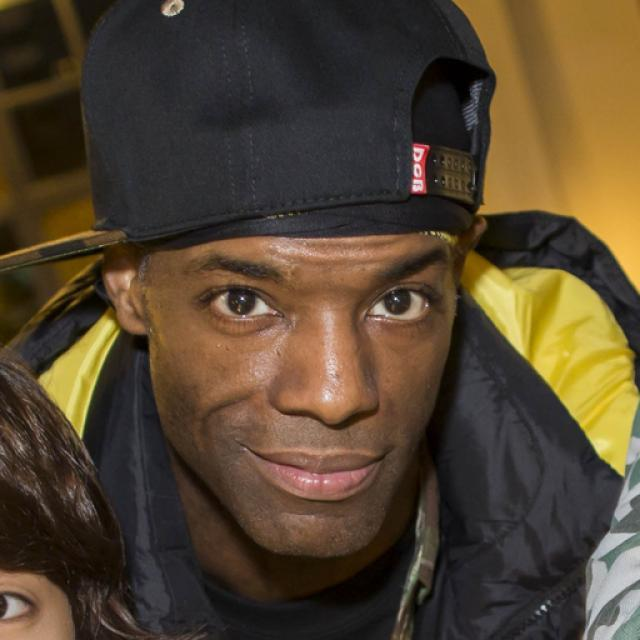surprise: (148, 215, 458, 559)
